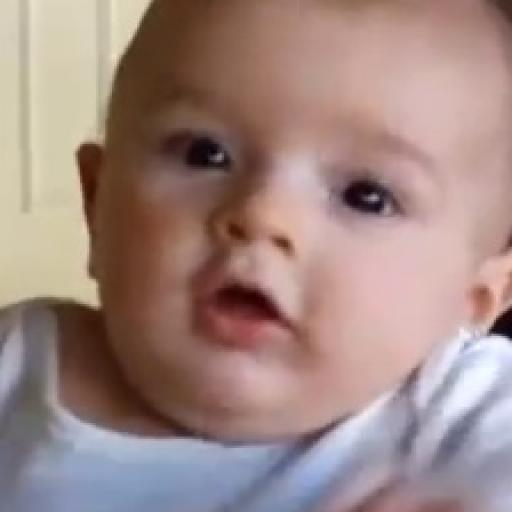Autism: (82, 7, 512, 475)
